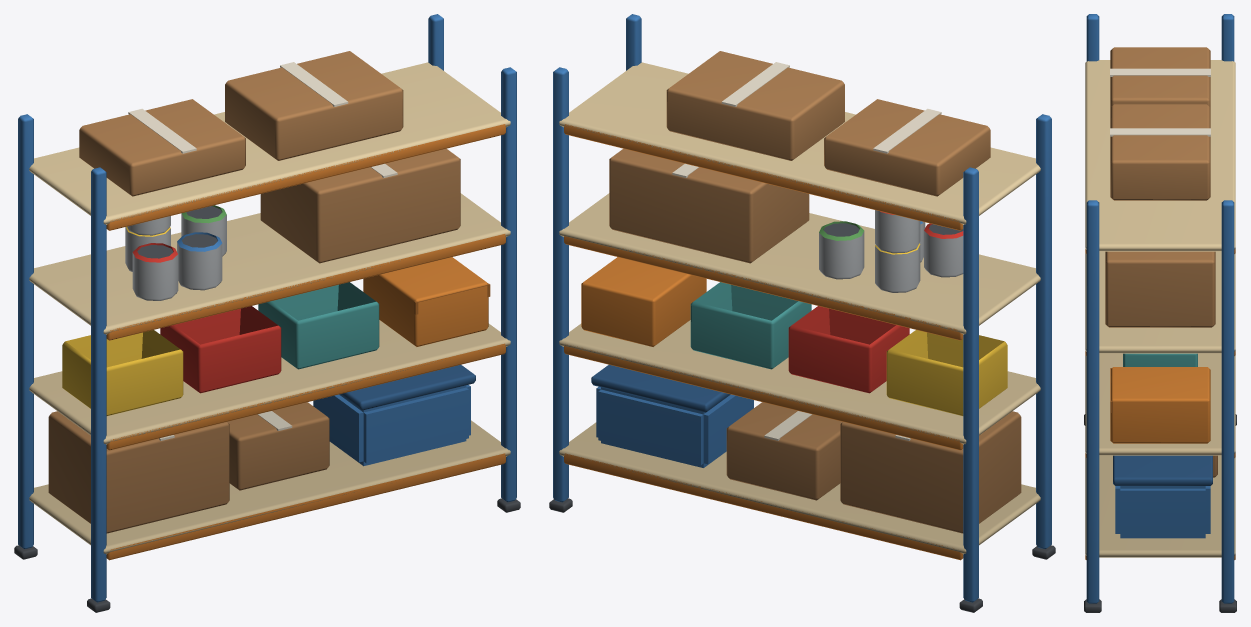
File: SM_Shelving_HD_Loaded_01.glb
3 renders of one model, left to right at view 1: azimuth 30°, elevation 25°; view 2: azimuth 150°, elevation 25°; view 3: azimuth 270°, elevation 25°, orthographic. The views are drawn at different scales.
Parts seen in each view (by area): view 1: SM_Shelving_HD_Loaded_01; view 2: SM_Shelving_HD_Loaded_01; view 3: SM_Shelving_HD_Loaded_01.
Boxes of the visible parts, left/top/right/bottom form: SM_Shelving_HD_Loaded_01: left=14, top=14, right=520, bottom=612; SM_Shelving_HD_Loaded_01: left=549, top=14, right=1055, bottom=612; SM_Shelving_HD_Loaded_01: left=1084, top=14, right=1236, bottom=612.
Size of the model in its own units: 1.83 by 1.8 by 0.61.
1 material, 1 textured.
